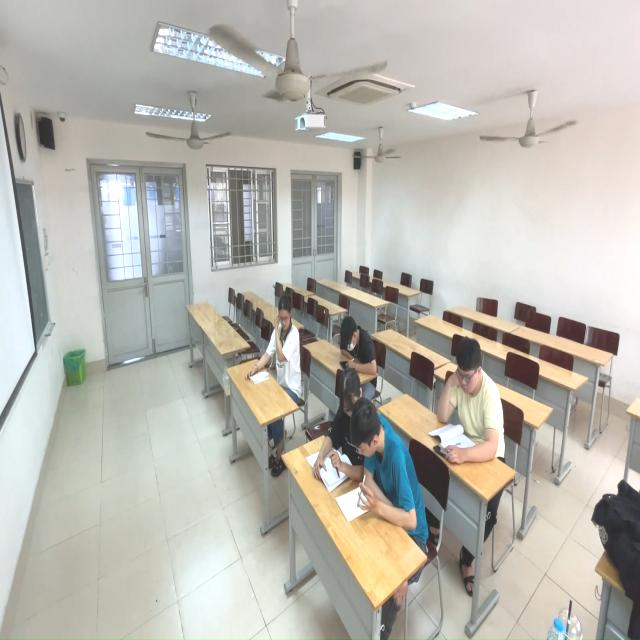read: (427, 324, 508, 471), (336, 394, 421, 530), (305, 368, 368, 495), (250, 292, 307, 405), (336, 313, 379, 380)
